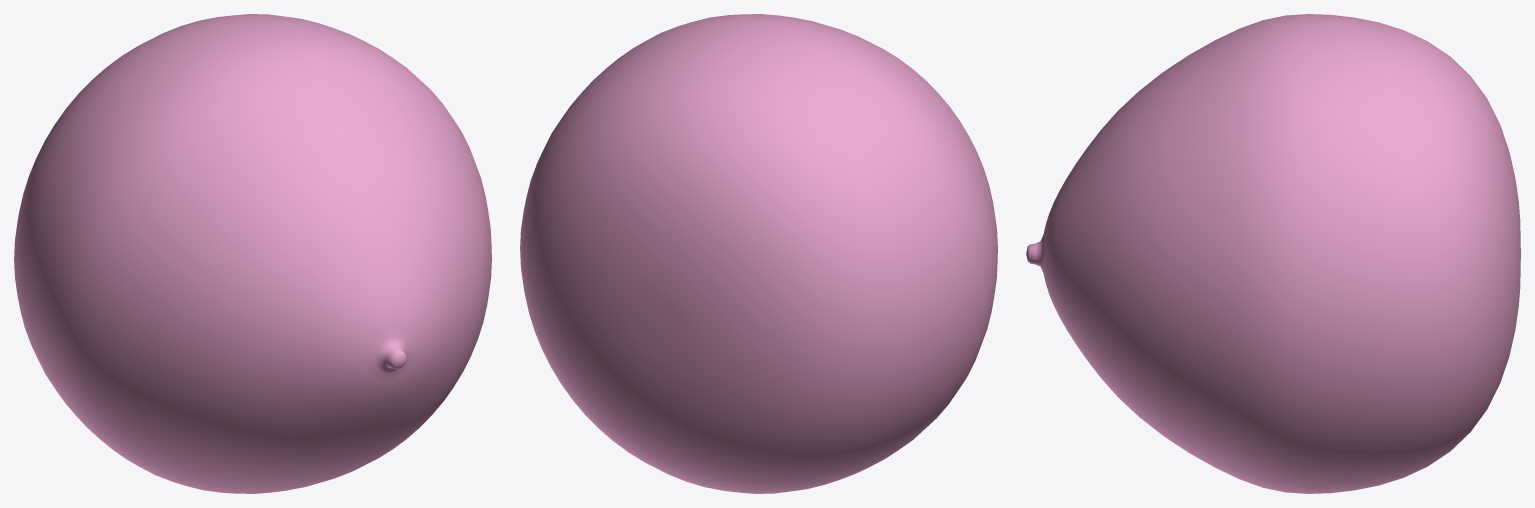
File: YapışklanSakız.fbx
3 renders of one model, left to right at view 1: azimuth 30°, elevation 25°; view 2: azimuth 150°, elevation 25°; view 3: azimuth 270°, elevation 25°, orthographic.
Visible parts, largest first — view 1: Sphere; view 2: Sphere; view 3: Sphere.
Boxes of the visible parts, x1,y1,x2,y2 form: Sphere: (14,14,491,493); Sphere: (520,14,997,493); Sphere: (1026,14,1520,493).
Size of the model in its own units: 251 by 251 by 259.
